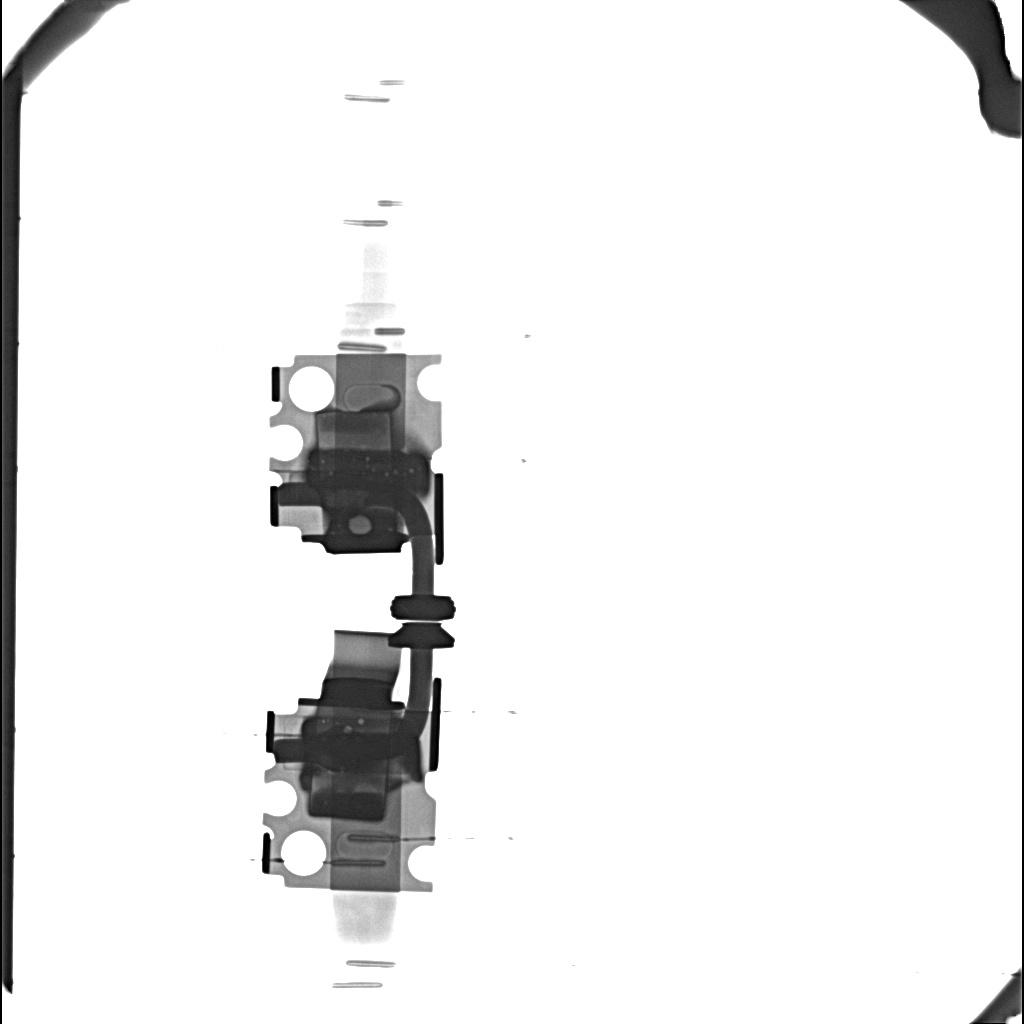气孔: (307, 761, 390, 821), (314, 409, 393, 449)
气泡: (349, 514, 372, 535), (358, 717, 364, 724)
水纹: (308, 449, 430, 495), (303, 734, 402, 764)
